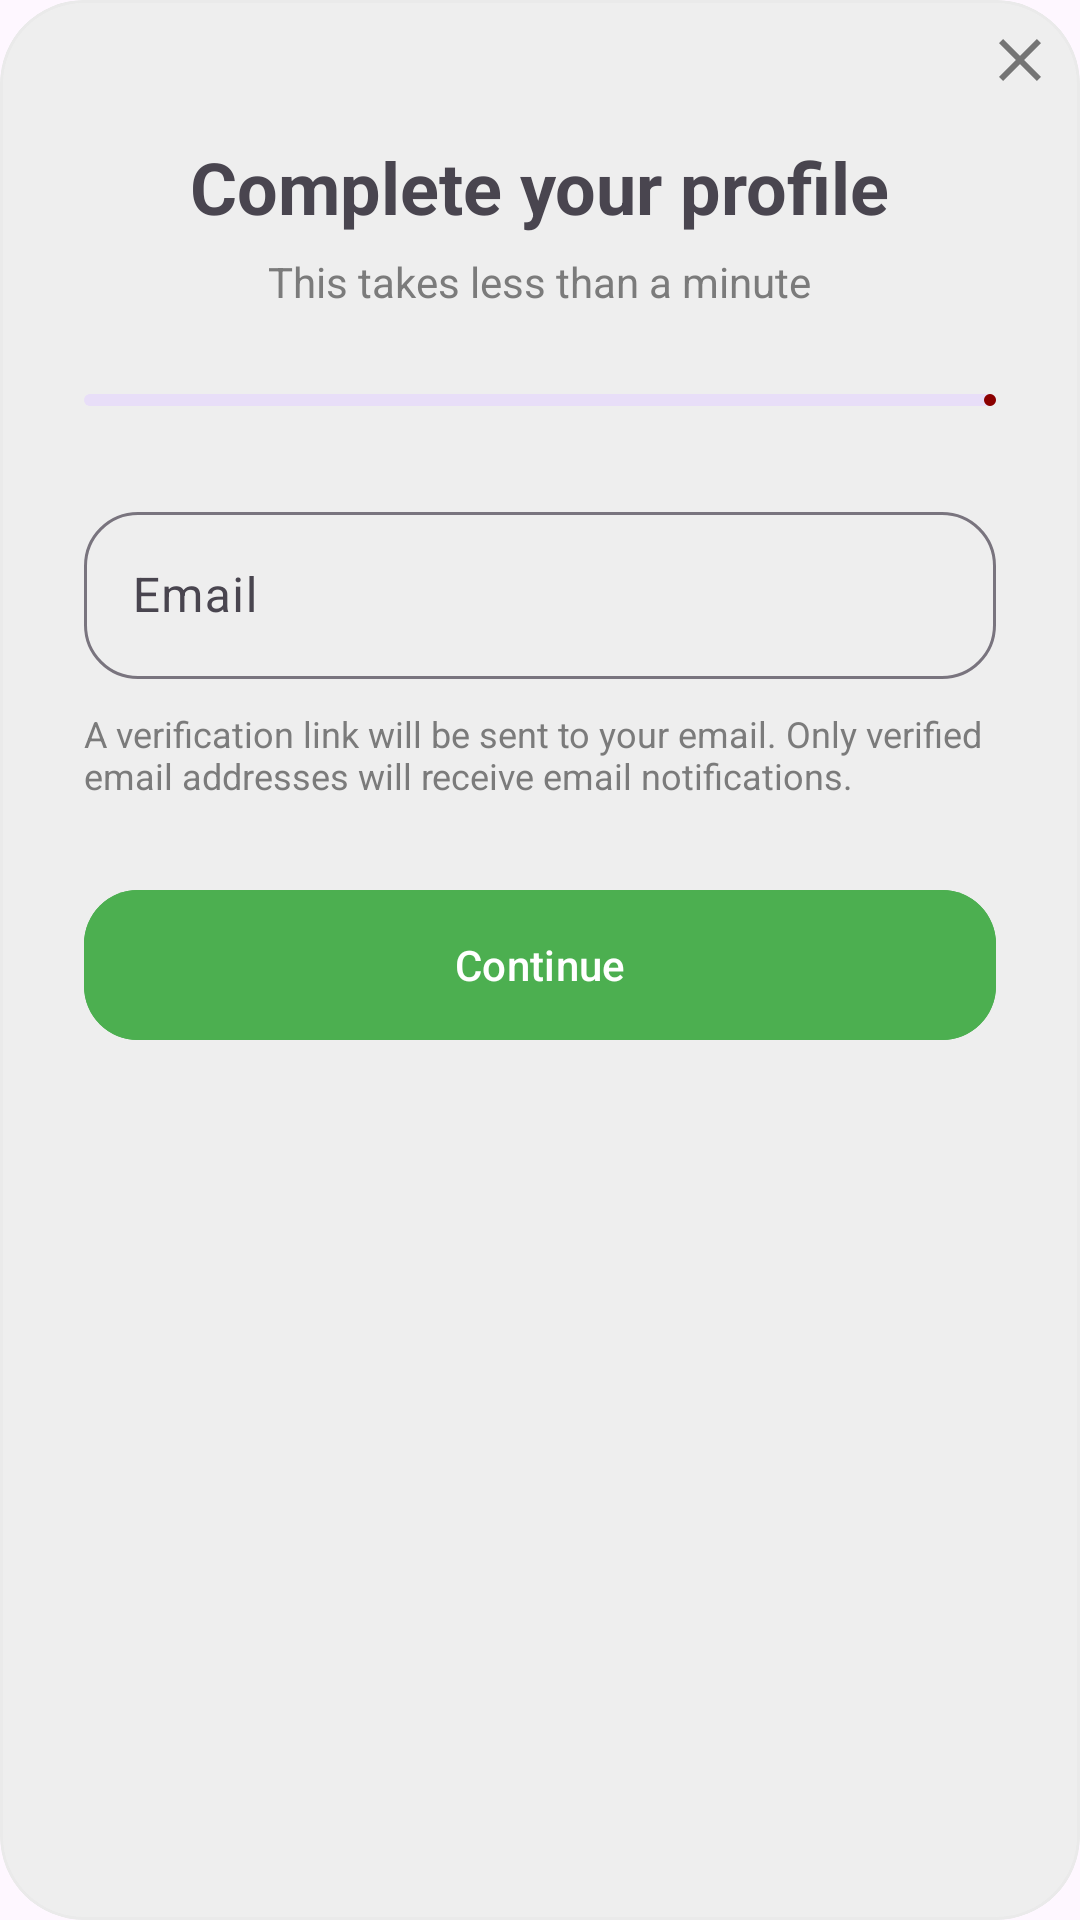

Screen size 1080w x 1920h. Icon name, then its box in pixels as detection(x1, y1, x2, y2):
Close: detection(999, 39, 1041, 81)
